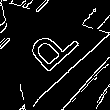P_SW: (13, 17, 77, 79)
